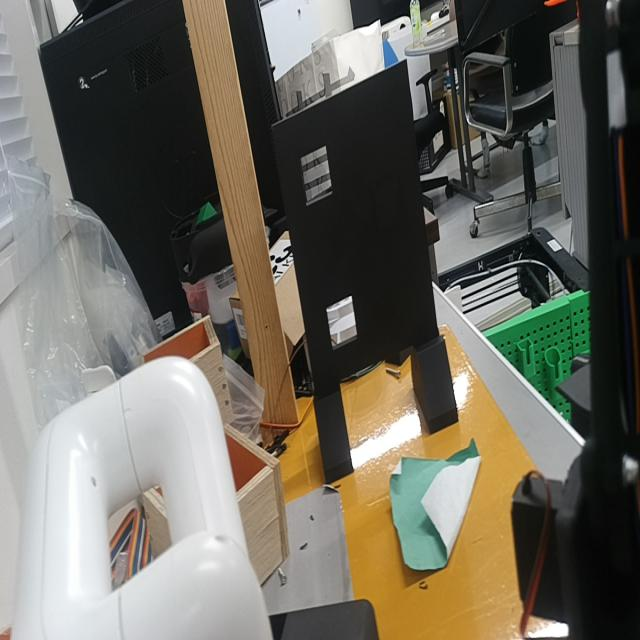Obstacle: (300, 147, 333, 211), (325, 294, 359, 351)
Wall: (271, 57, 439, 393)
